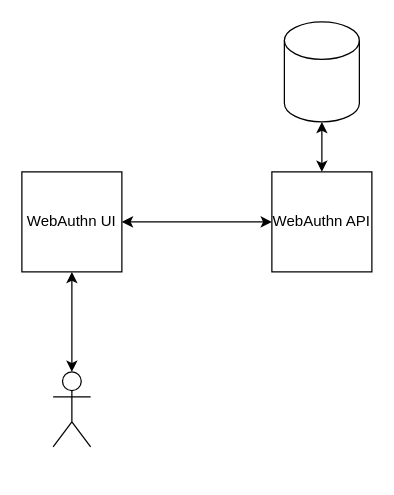
The diagram is 394 pixels wide and 495 high, and some of its shapes have lost their labels. Here are the shapes that lost their labels. From the top down, the centre of each, then its label:
the point at 321,71: WebAuthn DB
the point at 71,409: User
